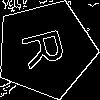R: (20, 24, 75, 71)
